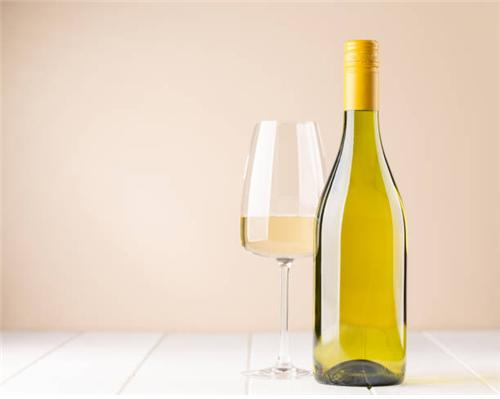alcohol: (315, 41, 407, 386), (240, 121, 314, 384)
